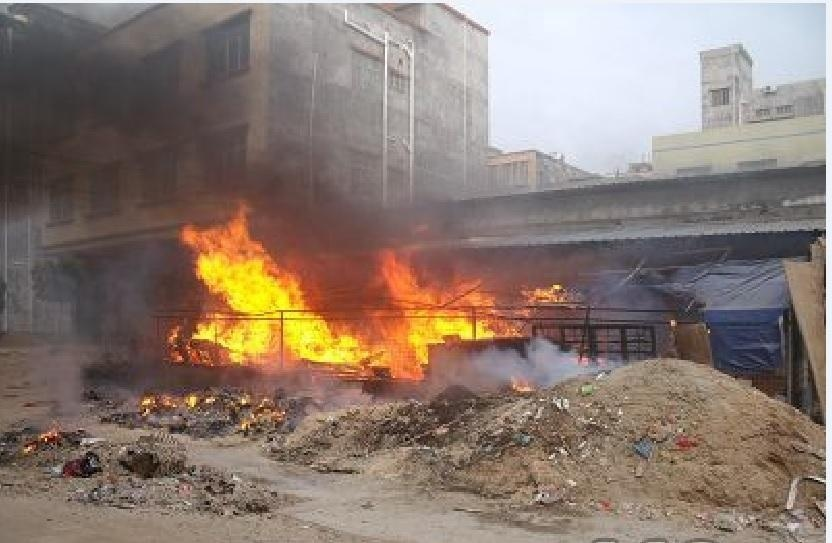fire: (163, 206, 555, 373), (23, 426, 61, 451)
